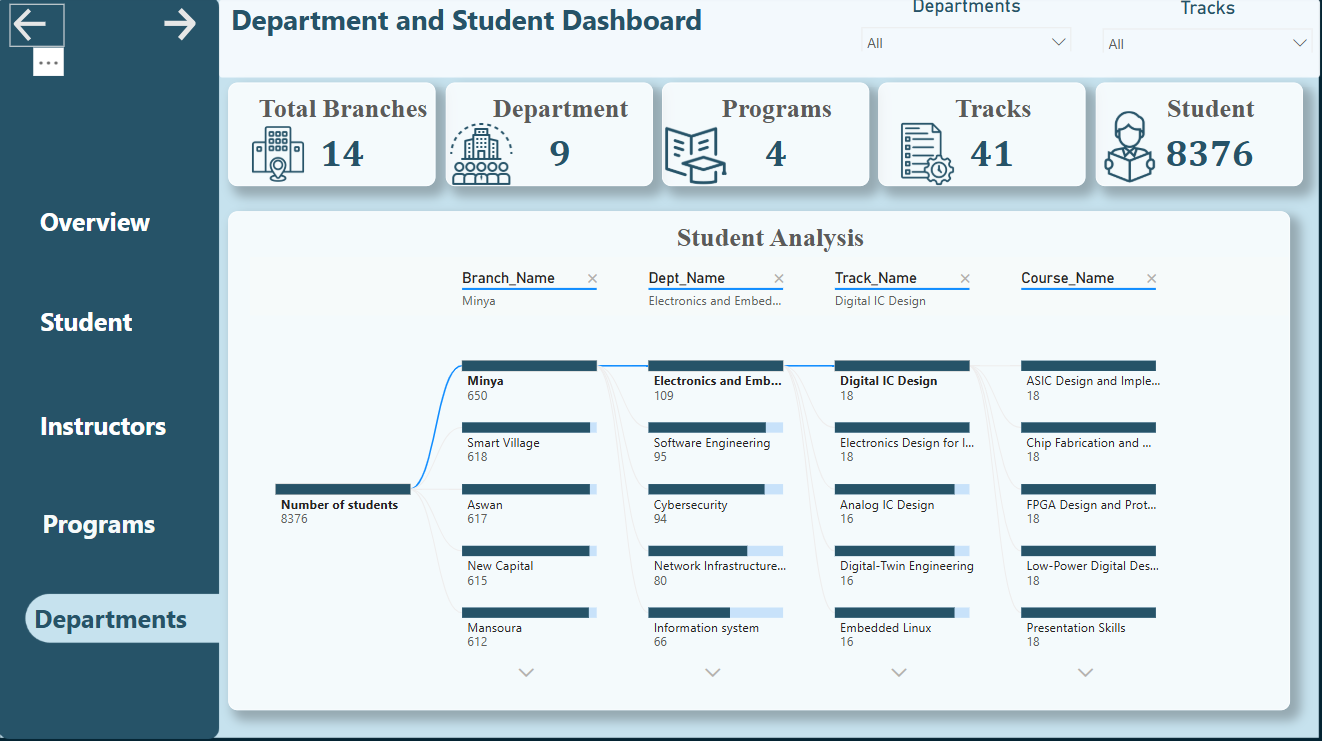

This screenshot's page, from the dashboard's own definition file:
{"tool":"powerbi","page":{"name":" Departments  and Students ","canvas":[1280,720],"ordinal":17},"visuals":[{"type":"textbox","box":[194.9,0,522.8,56.3],"z":0},{"type":"slicer","title":"Departments ","fields":{"Values":["Department.Dept_Name"]},"box":[824,0,223.2,54.3],"z":1000},{"type":"slicer","title":"Tracks ","fields":{"Values":["Track.Track_Name"]},"box":[1056.8,1.2,223.2,54.3],"z":2000},{"type":"decompositionTreeVisual","title":"Student Analysis ","fields":{"Analyze":["CountNonNull(Student.St_ID)"],"ExplainBy":["Branch.Branch_Name","Department.Dept_Name","Track.Track_Name","Courses.Course_Name"]},"box":[223.7,208.6,1025,481.6],"z":3000},{"type":"group","id":"g1","title":"Group 2","box":[23.9,197.9,205.3,436.9],"z":4000},{"type":"actionButton","box":[12.1,8.4,53.1,41],"z":5000},{"type":"actionButton","box":[155.6,8.4,59.1,39.8],"z":6000},{"type":"card","title":"Total Branches","fields":{"Values":["CountNonNull(Branch.Branch_ID)"]},"box":[223.7,84.6,200,100],"z":7000},{"type":"card","title":"Department","fields":{"Values":["CountNonNull(Department.Dept_ID)"]},"box":[432.8,84.6,200,100],"z":8000},{"type":"card","title":"Programs","fields":{"Values":["CountNonNull(Program.Prog_ID)"]},"box":[641.9,84.6,200,100],"z":9000},{"type":"card","title":"Tracks","fields":{"Values":["CountNonNull(Track.Track_ID)"]},"box":[851.1,84.6,200,100],"z":10000},{"type":"card","title":"Student","fields":{"Values":["CountNonNull(Student.St_ID)"]},"box":[1060.2,84.6,200.4,100.2],"z":11000},{"type":"image","box":[236.9,121.4,69,63.1],"z":12000},{"type":"actionButton","box":[39.8,297.8,152.3,42.5],"z":13000},{"type":"actionButton","box":[39.8,392.5,171.5,43.9],"z":14000},{"type":"actionButton","box":[26.1,575,179.8,54.9],"z":15000},{"type":"actionButton","box":[26.1,492.6,166,41.2],"z":16000},{"type":"image","box":[432.2,109.8,71.4,86.4],"z":17000},{"type":"image","box":[850.8,116.6,94.7,72.7],"z":18000},{"type":"image","box":[632.6,120.8,85.1,68.6],"z":19000},{"type":"image","box":[1051.1,107,85.1,78.2],"z":20000},{"type":"textbox","box":[30.1,294.7,190.6,48.3],"z":23000,"group":"g1"},{"type":"textbox","box":[36.2,393.9,190.6,43.4],"z":24000,"group":"g1"},{"type":"textbox","box":[38.6,488.4,190.6,45.8],"z":25000,"group":"g1"},{"type":"textbox","box":[23.9,580.5,190.6,54.3],"z":26000,"group":"g1"},{"type":"textbox","box":[36.2,197.9,190.6,45.8],"z":27000,"group":"g1"}]}

Visuals, with their boxes on the page's 1280x720 design canvas (x1, y1, x2, y2). These are canvas units, not pixel positions in the 1322x741 screenshot, which may show the page scaled, cropped or inside an application window:
textbox: BBox(195, 0, 718, 56)
"Departments " slicer: BBox(824, 0, 1047, 54)
"Tracks " slicer: BBox(1057, 1, 1280, 56)
"Student Analysis " decompositionTreeVisual: BBox(224, 209, 1249, 690)
"Group 2" group: BBox(24, 198, 229, 635)
actionButton: BBox(12, 8, 65, 49)
actionButton: BBox(156, 8, 215, 48)
"Total Branches" card: BBox(224, 85, 424, 185)
"Department" card: BBox(433, 85, 633, 185)
"Programs" card: BBox(642, 85, 842, 185)
"Tracks" card: BBox(851, 85, 1051, 185)
"Student" card: BBox(1060, 85, 1261, 185)
image: BBox(237, 121, 306, 184)
actionButton: BBox(40, 298, 192, 340)
actionButton: BBox(40, 392, 211, 436)
actionButton: BBox(26, 575, 206, 630)
actionButton: BBox(26, 493, 192, 534)
image: BBox(432, 110, 504, 196)
image: BBox(851, 117, 946, 189)
image: BBox(633, 121, 718, 189)
image: BBox(1051, 107, 1136, 185)
textbox: BBox(30, 295, 221, 343)
textbox: BBox(36, 394, 227, 437)
textbox: BBox(39, 488, 229, 534)
textbox: BBox(24, 580, 214, 635)
textbox: BBox(36, 198, 227, 244)
